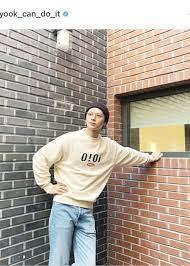pants: (47, 200, 98, 266)
sweater: (30, 131, 156, 200)
